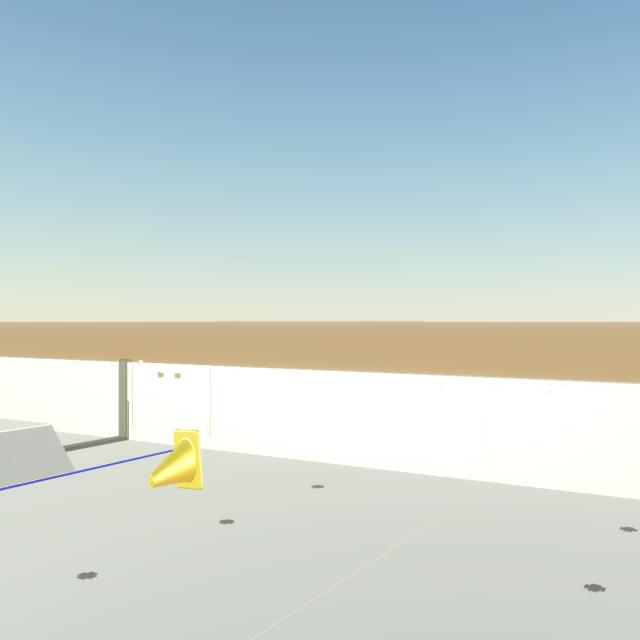frc_cone: (149, 429, 203, 490)
